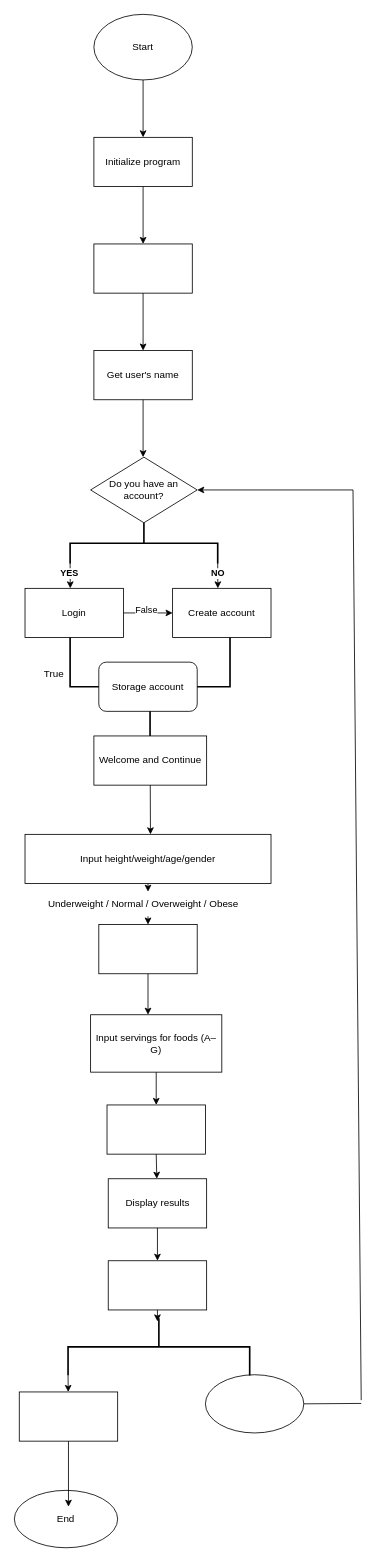
This 376x1562 diagram has some shape labels left out. The centre of each missing label's shape, as x and y in pixels:
"Compute BMI, BMR/TDEE, intake & suggest plan" goes at pixel 155 1129.
"Give feedback" goes at pixel 157 1285.
"Greet user" goes at pixel 142 268.
"Logout" goes at pixel 254 1403.
"Select activity level (A–E)" goes at pixel 147 949.
"View History" goes at pixel 68 1416.
